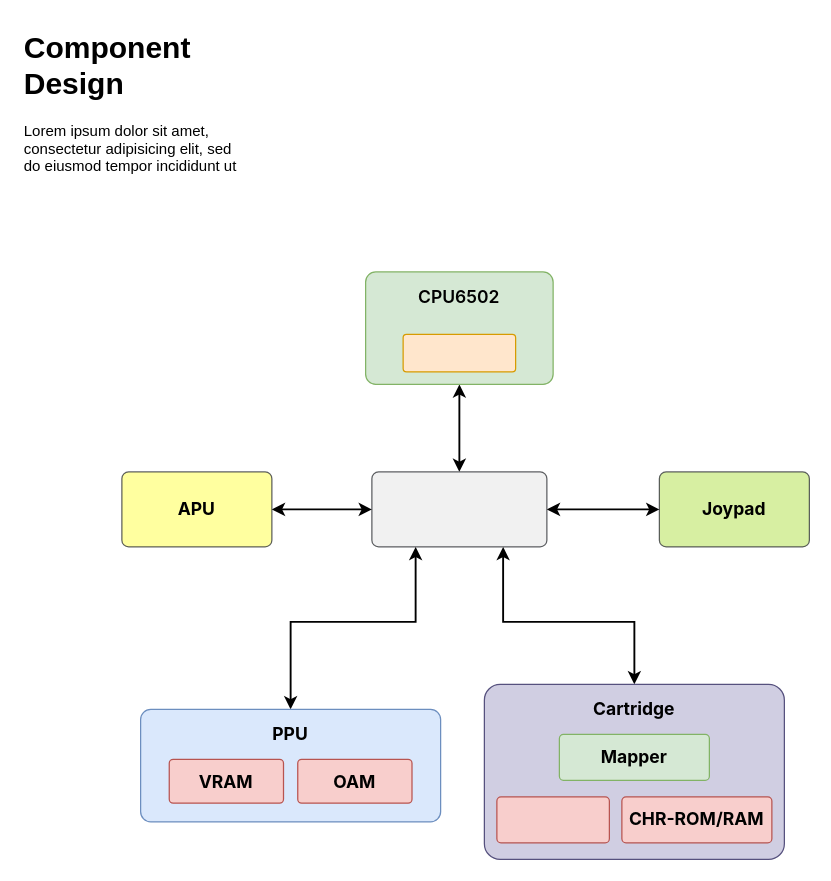
Some shapes in this 831 by 881 pixel diagram are drawn without their labels. Each missing label, with the centre of its shape:
"BUS Interface" goes at [459,509].
"PRG-ROM" goes at [552,819].
"WRAM" goes at [459,352].
